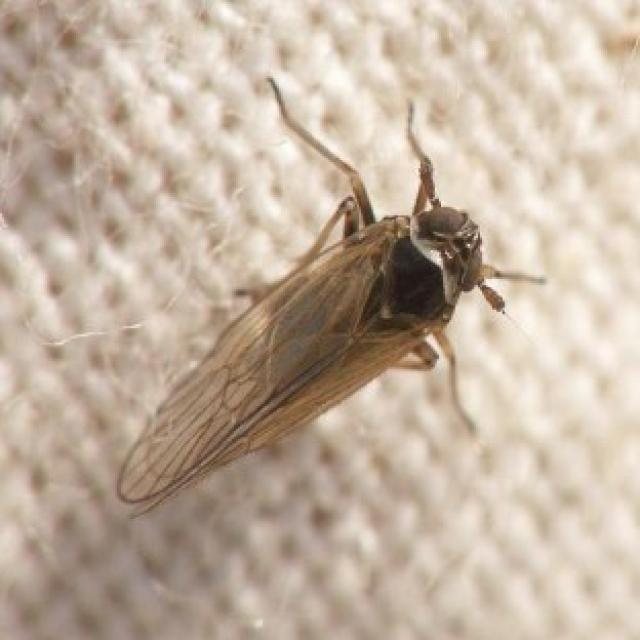brown plant hopper: (117, 80, 539, 507)
